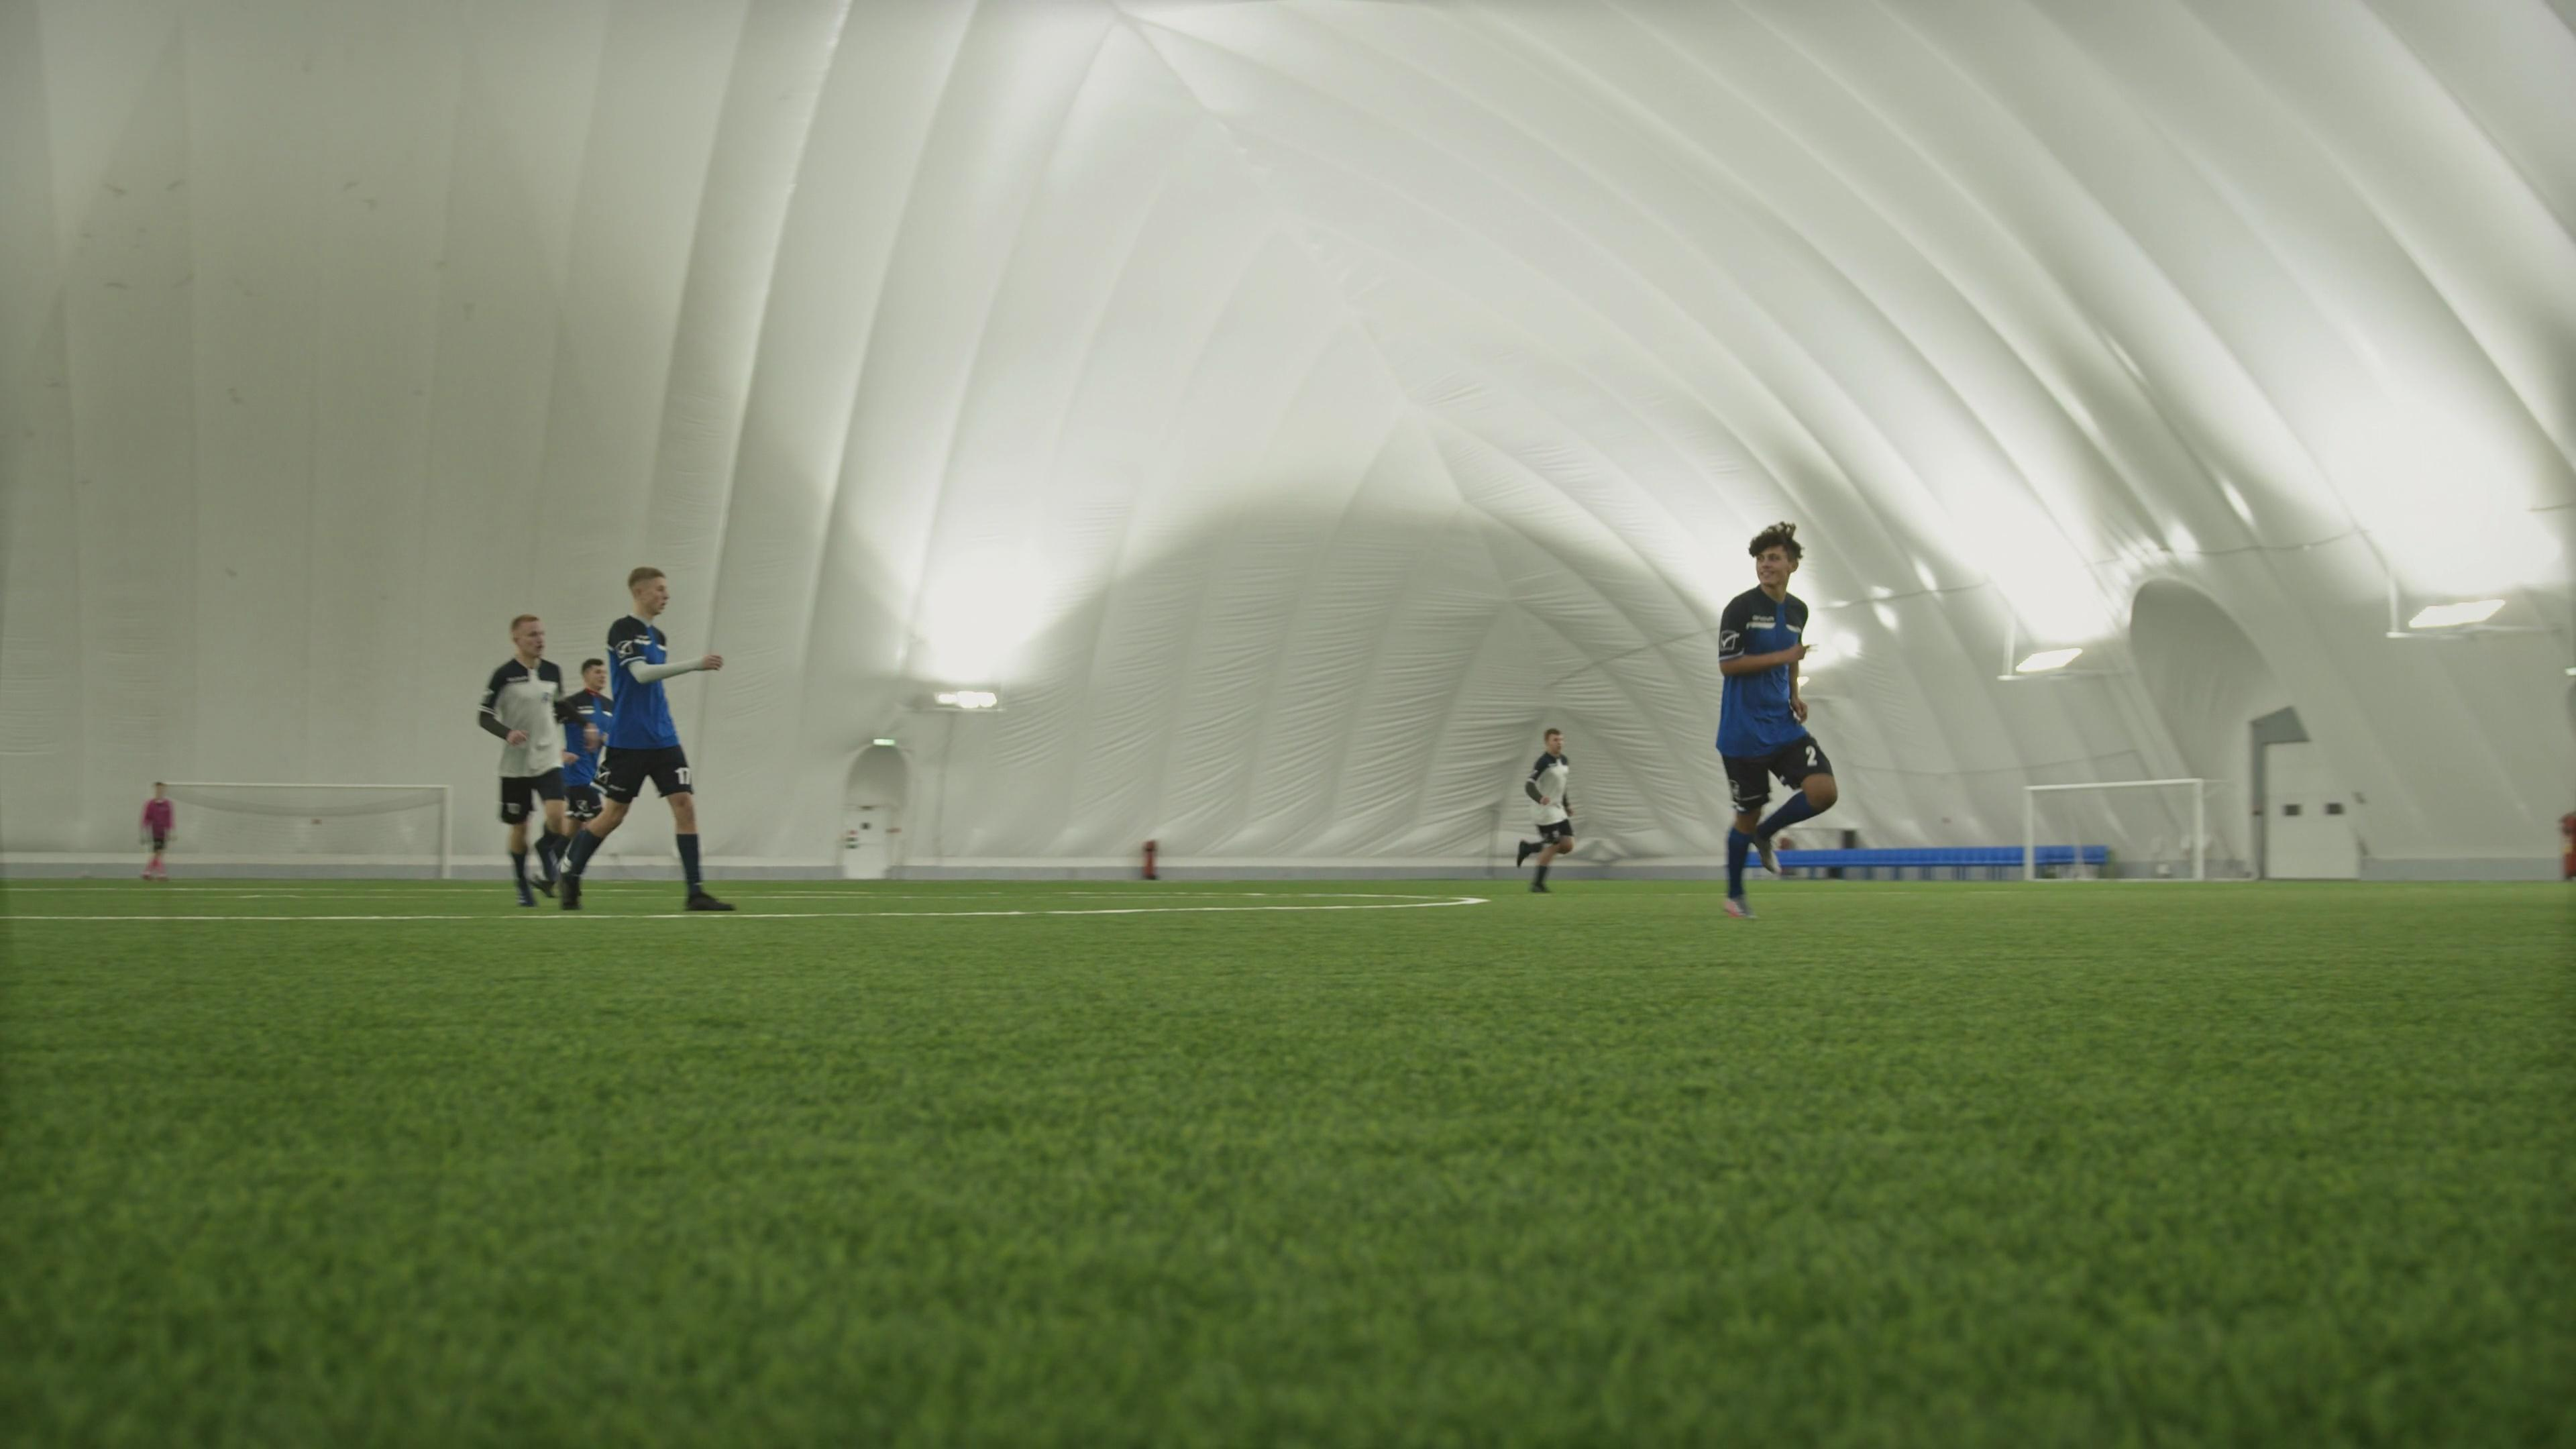other: (136, 782, 177, 879)
team1: (554, 564, 725, 913), (1713, 522, 1831, 915), (550, 658, 612, 839)
team2: (474, 610, 582, 902), (1516, 724, 1578, 892)
